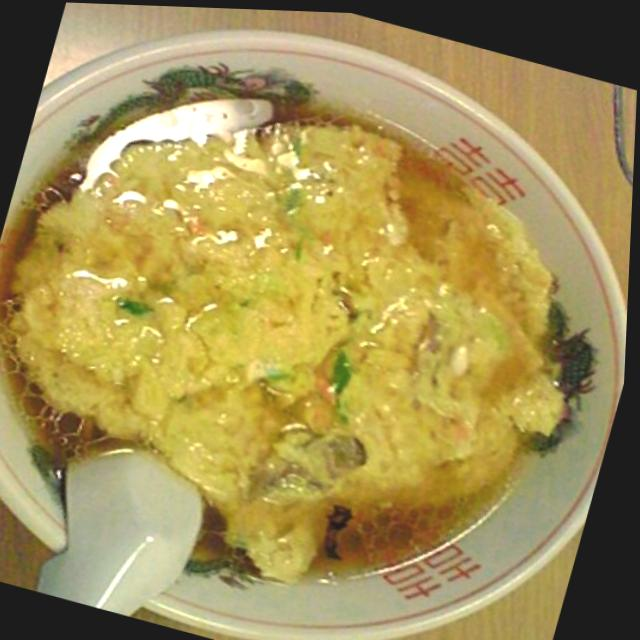面条主食: (0, 17, 621, 639)
